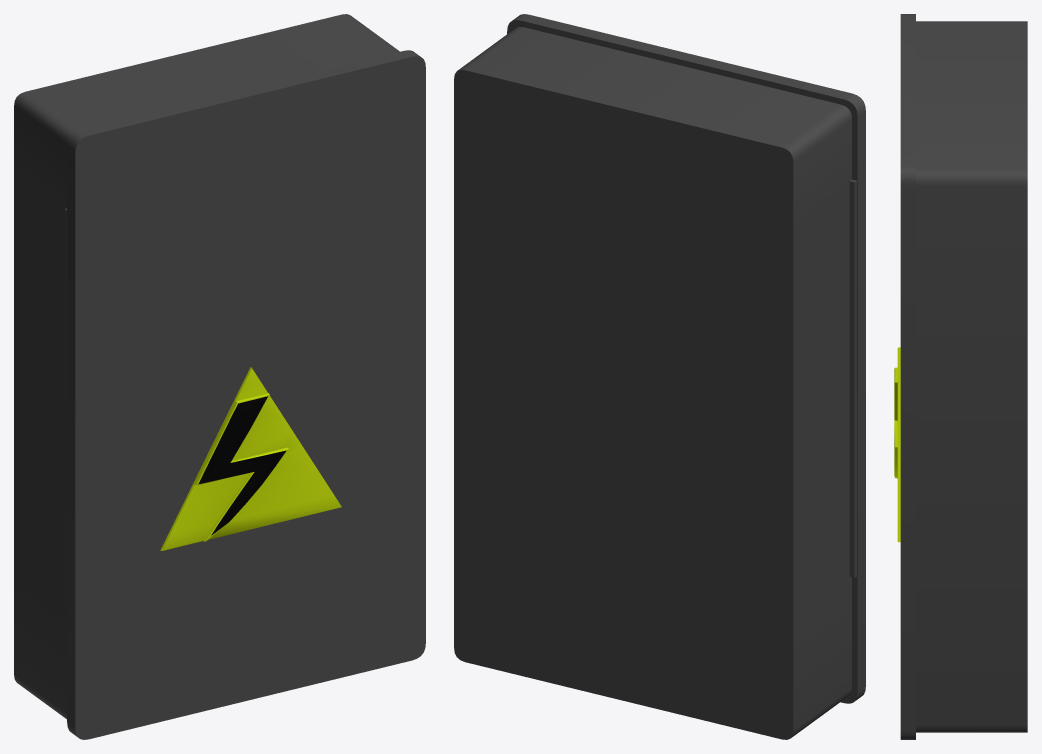
The model's file is Fuse_Box_AG.FBX.
3 renders of one model, left to right at view 1: azimuth 30°, elevation 25°; view 2: azimuth 150°, elevation 25°; view 3: azimuth 270°, elevation 25°, orthographic. The views are drawn at different scales.
Visible parts, largest first — view 1: Lid, FuseBox; view 2: FuseBox, Lid; view 3: FuseBox, Lid.
Part boxes in pixels (x1,y1,x2,y2): Lid: (67,50,425,739); FuseBox: (14,14,399,718); FuseBox: (454,27,856,739); Lid: (507,14,865,703); FuseBox: (916,21,1027,732); Lid: (894,14,915,739).
Size of the model in its own units: 12.2 by 20.08 by 4.23.
